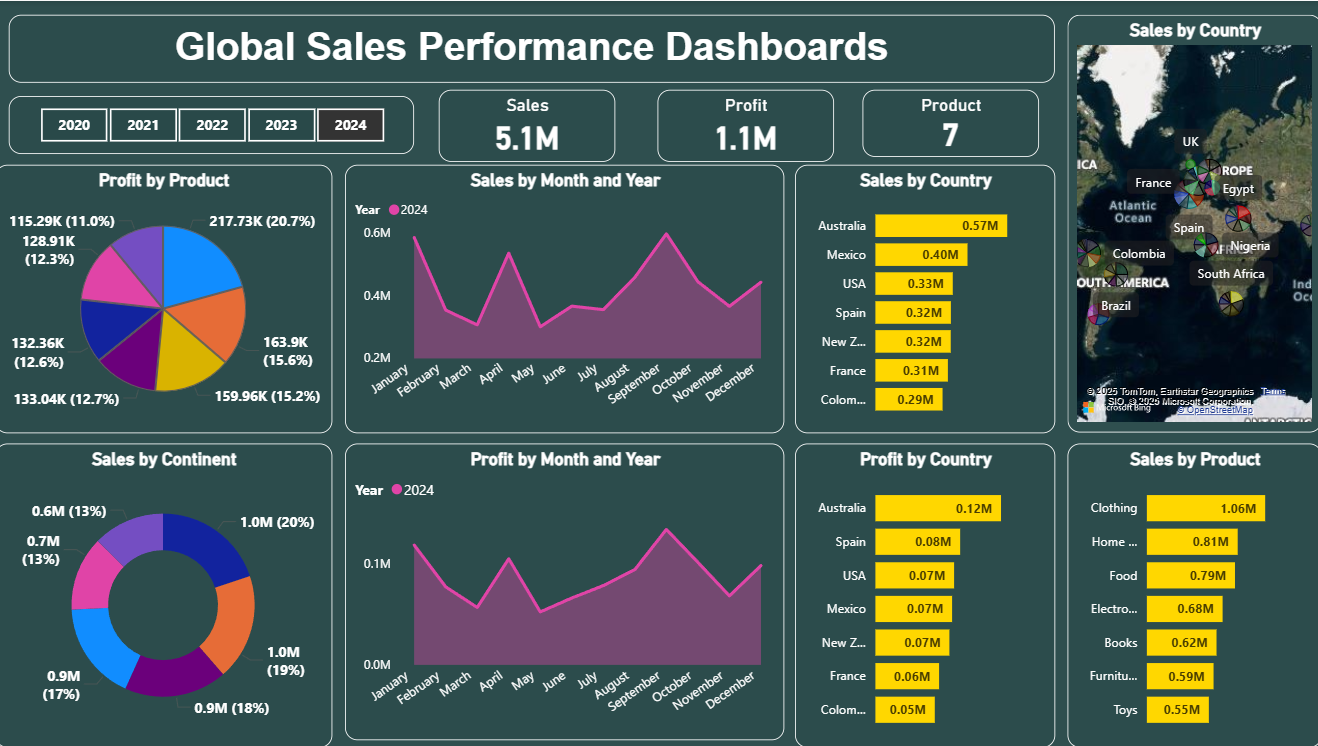

This screenshot's page, from the dashboard's own definition file:
{"tool":"powerbi","page":{"name":"Page 1","canvas":[1280,720],"ordinal":0},"visuals":[{"type":"clusteredBarChart","title":"Sales by Product","fields":{"Y":["Sum(global_sales_data.Sales)"],"Category":["global_sales_data.Product"]},"box":[1034.7,426.8,245.6,293.7],"z":0},{"type":"map","title":"Sales by Country","fields":{"Category":["global_sales_data.Country","global_sales_data.Continent"],"Size":["Sum(global_sales_data.Sales)"],"Series":["global_sales_data.Profit"]},"box":[1034.7,13.7,245.6,403.4],"z":1000},{"type":"clusteredBarChart","title":"Profit by Country","fields":{"Y":["Sum(global_sales_data.Profit)"],"Category":["global_sales_data.Country"]},"box":[772.6,426.8,251.1,293.7],"z":2000},{"type":"donutChart","title":"Sales by Continent","fields":{"Category":["global_sales_data.Continent"],"Y":["Sum(global_sales_data.Sales)"]},"box":[0,426.8,325.2,293.7],"z":3000},{"type":"stackedAreaChart","title":" Sales by Month and Year","fields":{"Y":["Sum(global_sales_data.Sales)"],"Category":["global_sales_data.Date.Variation.Date Hierarchy.Month"],"Series":["global_sales_data.Date.Variation.Date Hierarchy.Year"]},"box":[337.6,157.8,424,259.3],"z":4000},{"type":"stackedAreaChart","title":"Profit by Month and Year","fields":{"Category":["global_sales_data.Date.Variation.Date Hierarchy.Month"],"Series":["global_sales_data.Date.Variation.Date Hierarchy.Year"],"Y":["Sum(global_sales_data.Profit)"]},"box":[337.6,426.8,424,286.8],"z":5000},{"type":"pieChart","title":"Profit by Product","fields":{"Category":["global_sales_data.Product"],"Y":["Sum(global_sales_data.Profit)"]},"box":[0,157.8,325.2,259.3],"z":6000},{"type":"clusteredBarChart","title":"Sales by Country","fields":{"Y":["Sum(global_sales_data.Sales)"],"Category":["global_sales_data.Country"]},"box":[772.6,157.8,251.1,259.3],"z":7000},{"type":"textbox","box":[13.7,13.7,1010,65.9],"z":8000},{"type":"slicer","fields":{"Values":["global_sales_data.Date.Variation.Date Hierarchy.Year"]},"box":[13.7,91.9,391.1,56.3],"z":9000},{"type":"card","title":"Sales","fields":{"Values":["Sum(global_sales_data.Sales)"]},"box":[428.1,85.1,170.2,70],"z":10000},{"type":"card","title":"Profit","fields":{"Values":["Sum(global_sales_data.Profit)"]},"box":[639.5,85.1,170.2,70],"z":11000},{"type":"card","title":"Product","fields":{"Values":["Count(global_sales_data.Product)"]},"box":[837.1,85.1,170.2,64.5],"z":12000}]}

Visuals, with their boxes in screenshot pixels (x1, y1, x2, y2), scaled from the page's 1280x720 canvas onto the 1318x746 screenshot:
"Sales by Product" clusteredBarChart: crop(1065, 442, 1317, 745)
"Sales by Country" map: crop(1065, 14, 1317, 432)
"Profit by Country" clusteredBarChart: crop(796, 442, 1054, 745)
"Sales by Continent" donutChart: crop(0, 442, 335, 745)
" Sales by Month and Year" stackedAreaChart: crop(348, 163, 784, 432)
"Profit by Month and Year" stackedAreaChart: crop(348, 442, 784, 739)
"Profit by Product" pieChart: crop(0, 163, 335, 432)
"Sales by Country" clusteredBarChart: crop(796, 163, 1054, 432)
textbox: crop(14, 14, 1054, 82)
slicer - global_sales_data.Date.Variation.Date Hierarchy.Year: crop(14, 95, 417, 154)
"Sales" card: crop(441, 88, 616, 161)
"Profit" card: crop(658, 88, 834, 161)
"Product" card: crop(862, 88, 1037, 155)
